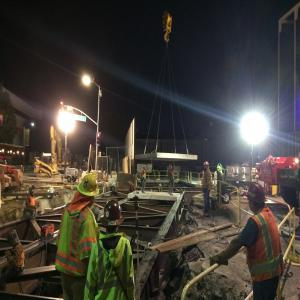red: (103, 201, 122, 235), (245, 184, 267, 212), (204, 161, 210, 171), (30, 189, 36, 198), (170, 164, 173, 169)
white: (144, 166, 147, 171)
yellow: (80, 175, 98, 207)
